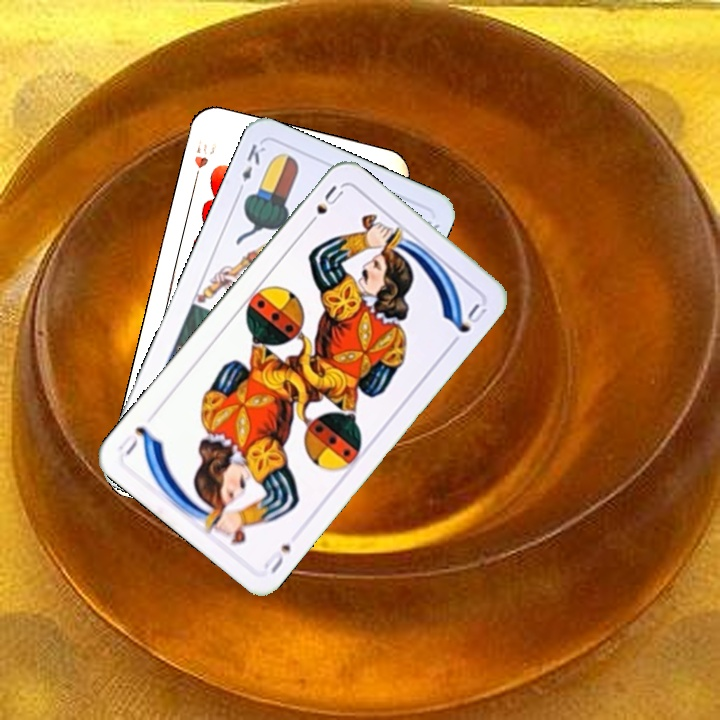EK: (233, 140, 268, 197)
H10: (189, 135, 220, 188)
SU: (302, 181, 347, 231), (260, 540, 294, 577)
